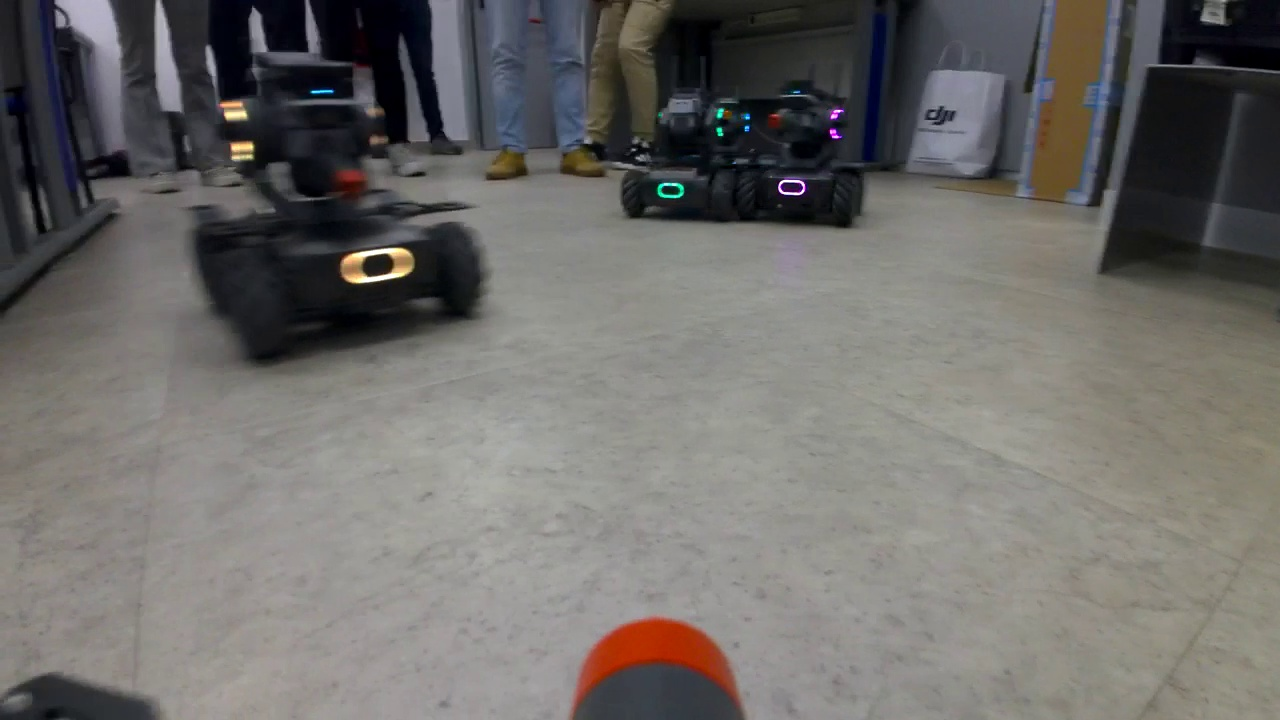robot: (191, 50, 490, 362), (737, 90, 868, 235), (618, 95, 738, 225)
